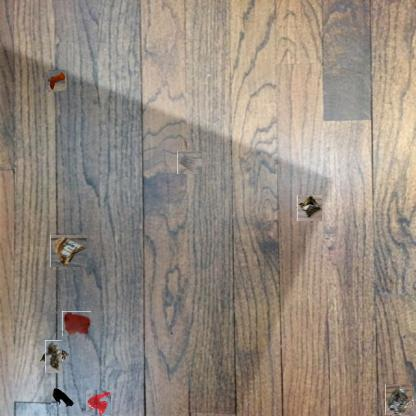dirty: (52, 234, 86, 269), (384, 386, 414, 416), (41, 344, 66, 369), (297, 196, 322, 221), (178, 150, 202, 175), (51, 388, 75, 412), (46, 71, 66, 91)
liquid: (62, 311, 91, 336), (85, 390, 111, 416)
